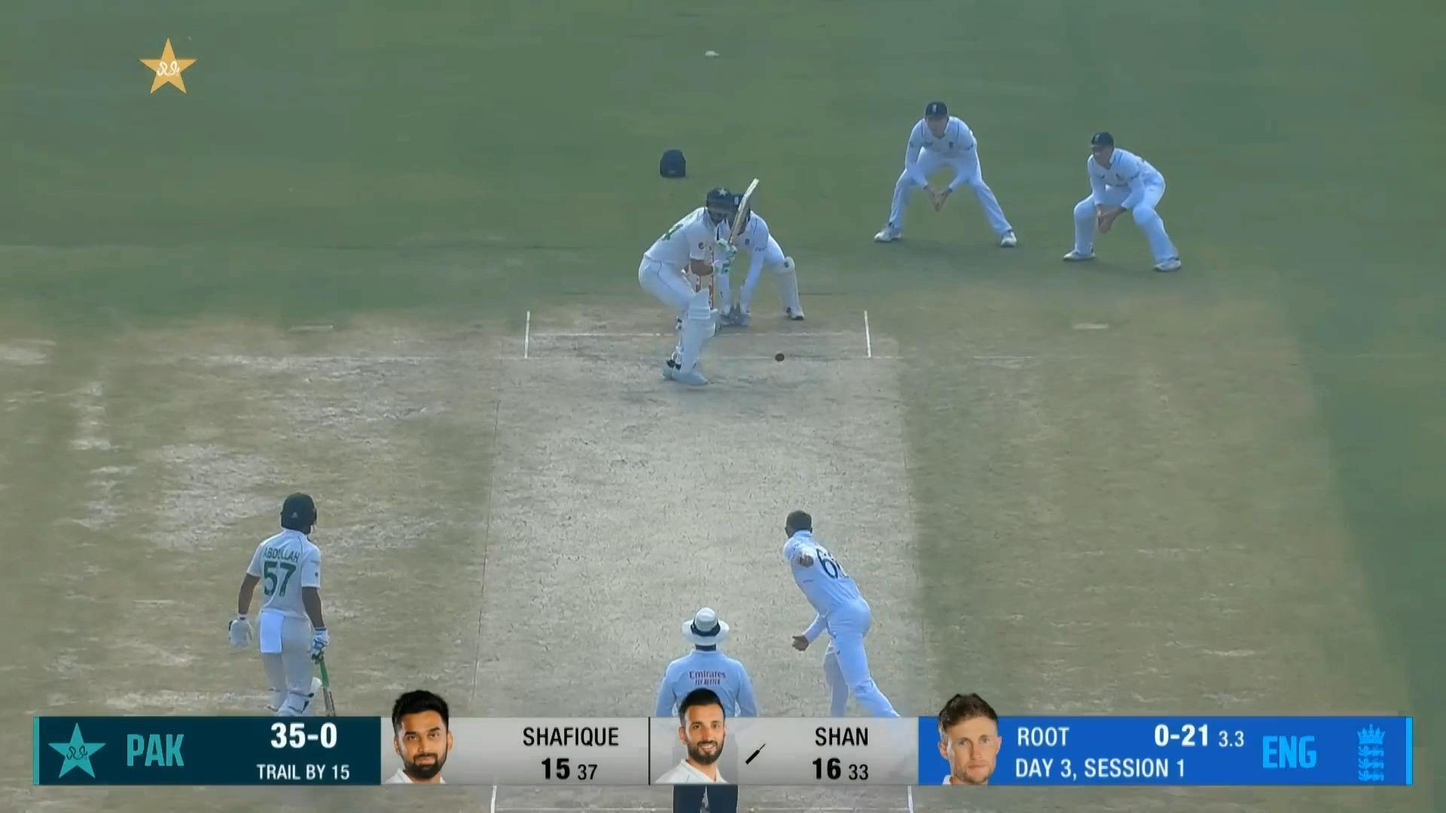BM 1: (637, 178, 761, 387)
BO: (780, 509, 902, 718)
